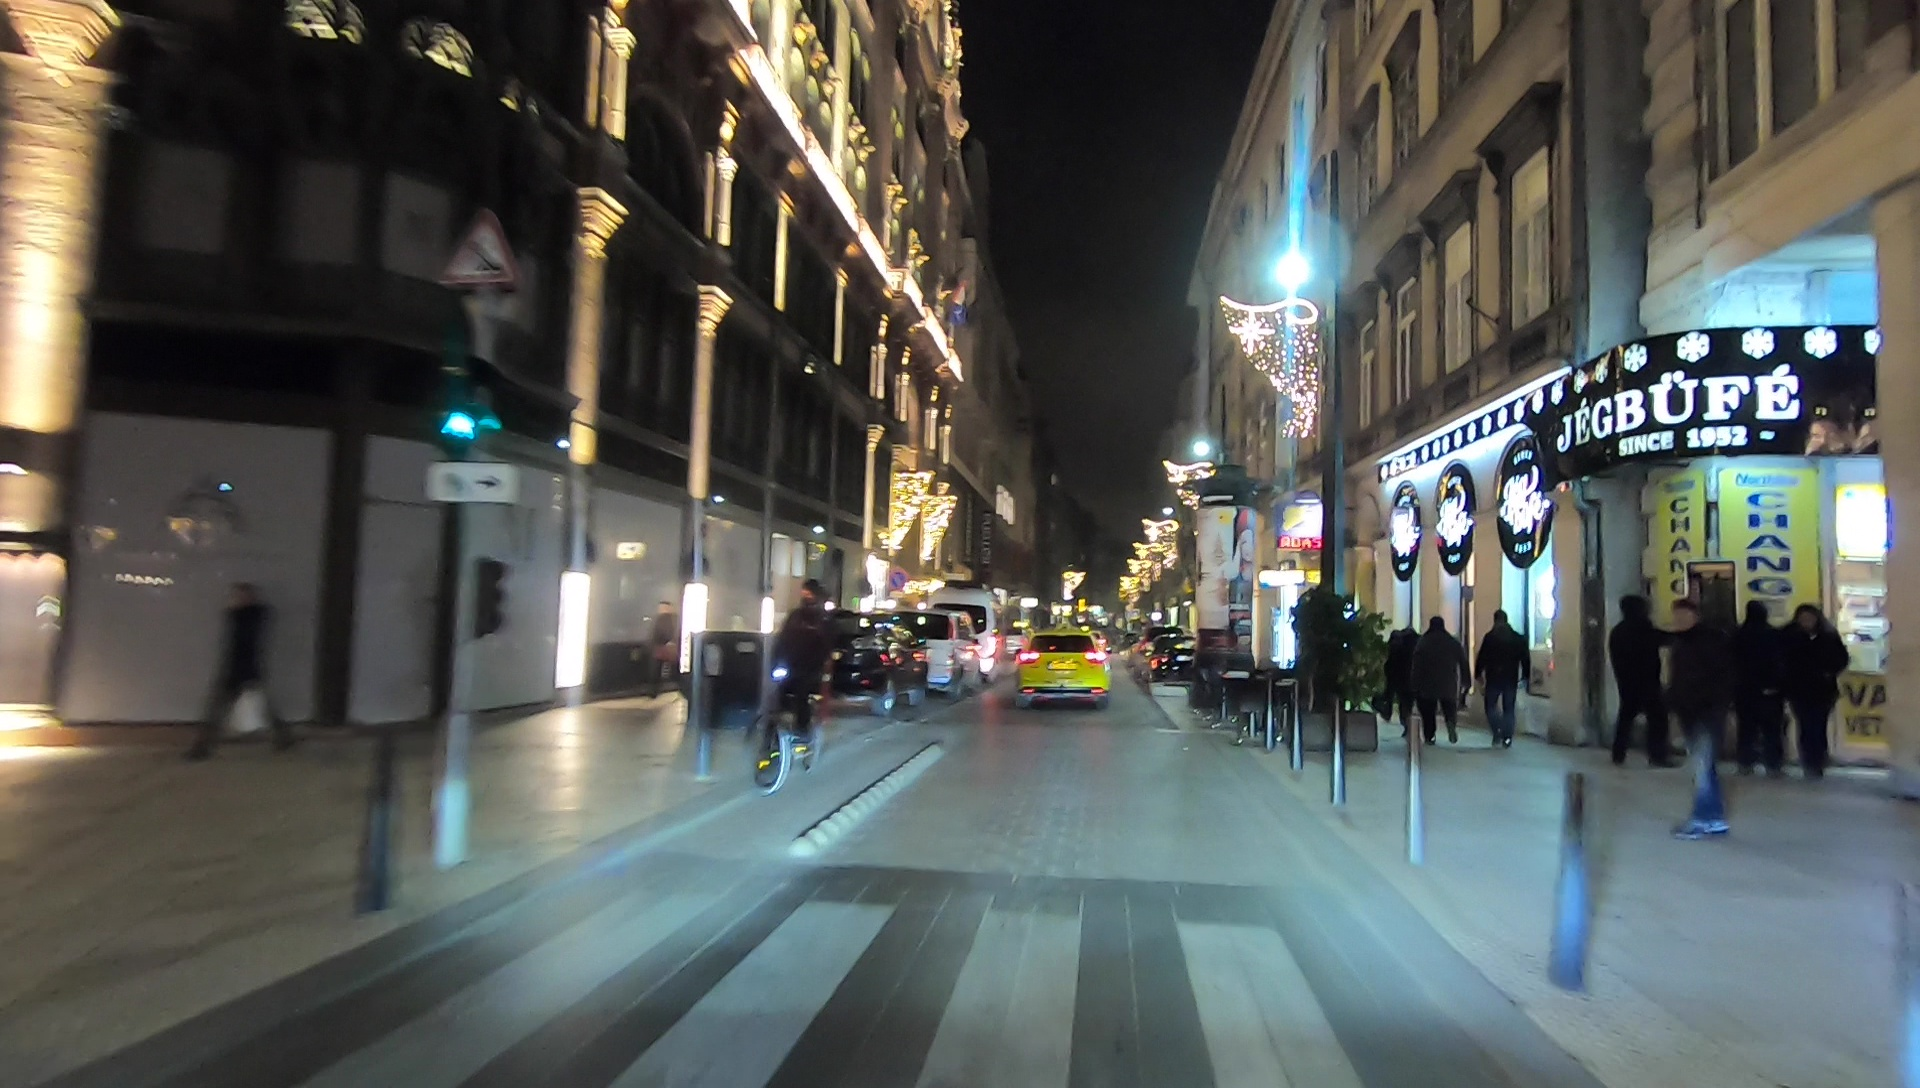person: (186, 580, 308, 765), (1665, 597, 1739, 841), (1780, 602, 1847, 774), (1604, 597, 1665, 765), (1734, 597, 1782, 780), (1478, 611, 1525, 747), (1419, 615, 1465, 743), (1382, 619, 1423, 741), (643, 599, 682, 702)
